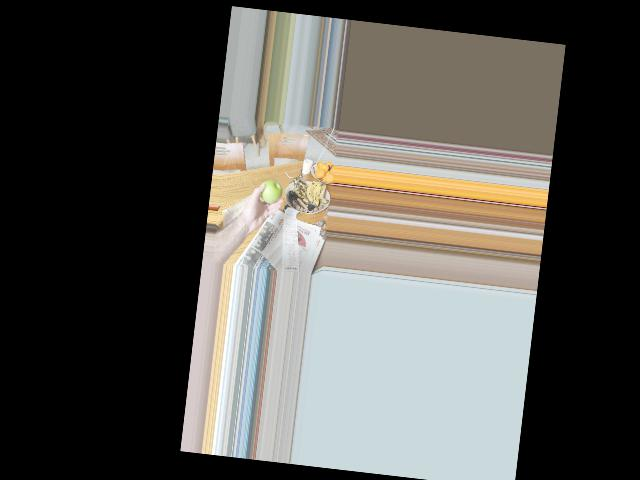apple: (254, 177, 284, 208)
